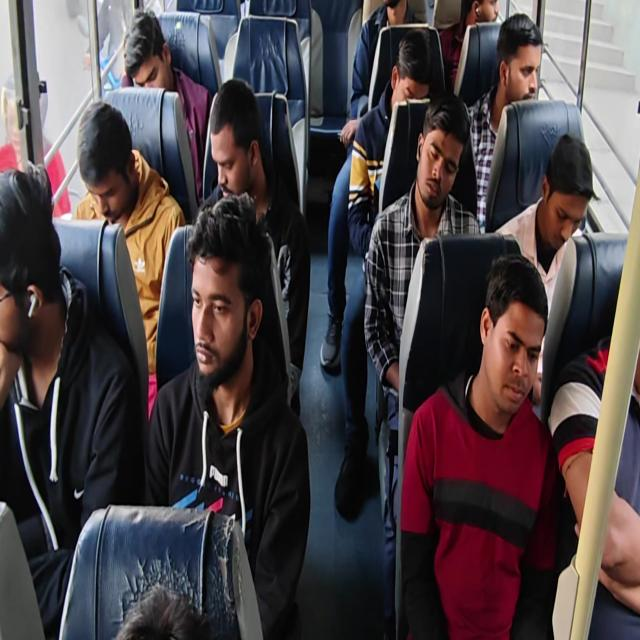person: (175, 205, 268, 405), (0, 161, 68, 368), (74, 101, 150, 239), (204, 77, 267, 203), (483, 267, 532, 420), (415, 108, 466, 214), (542, 132, 588, 248), (120, 19, 182, 105), (490, 28, 538, 109), (388, 46, 428, 112), (367, 0, 421, 39), (462, 0, 499, 39)
